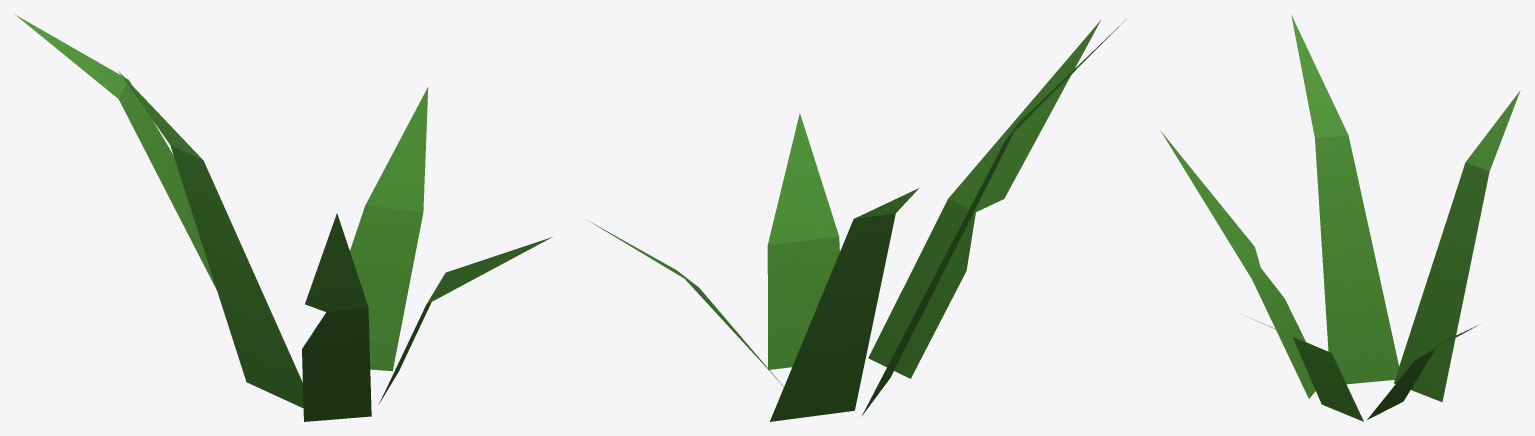
File: grass_patch_03_singlesided.fbx
The picture shows the model from 3 angles, left to right: view 1: azimuth 30°, elevation 25°; view 2: azimuth 150°, elevation 25°; view 3: azimuth 270°, elevation 25°; orthographic projection. The views are drawn at different scales.
Visible parts, largest first — view 1: grass_patch_03_singlesided; view 2: grass_patch_03_singlesided; view 3: grass_patch_03_singlesided.
Boxes of the visible parts, left/top/right/bottom form: grass_patch_03_singlesided: left=15, top=14, right=552, bottom=421; grass_patch_03_singlesided: left=586, top=19, right=1126, bottom=421; grass_patch_03_singlesided: left=1161, top=14, right=1520, bottom=421.
Bounding box in the file's own units: 1 × 0.9 × 1.
Materials: 1 (1 with a texture image).
